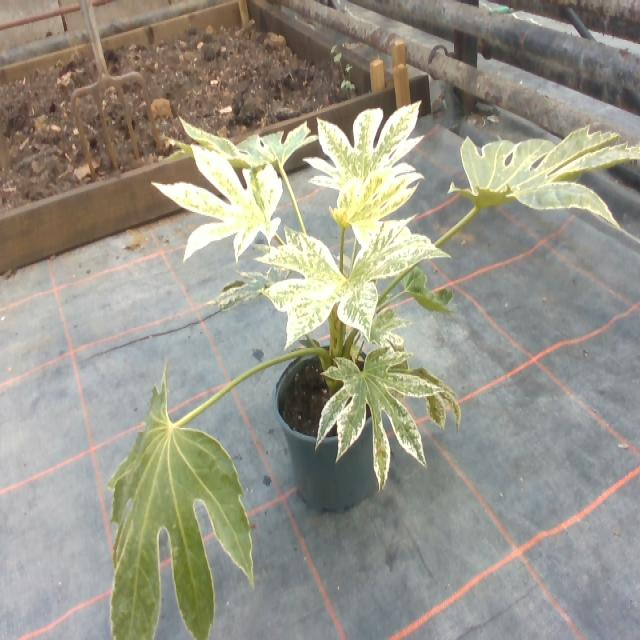Fatsia-japonica: (78, 387, 268, 640), (269, 214, 438, 343), (465, 107, 640, 230), (311, 338, 458, 475), (185, 76, 314, 186), (166, 137, 281, 255), (311, 102, 421, 195), (222, 240, 300, 327), (336, 162, 403, 234), (407, 250, 454, 323)
